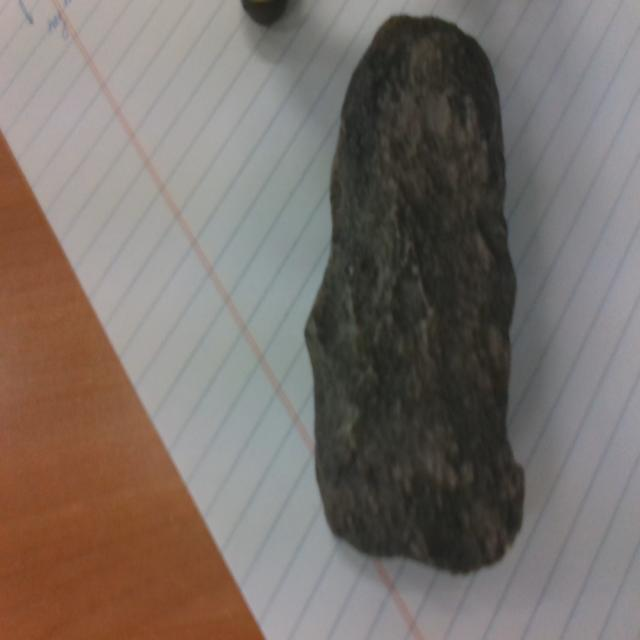stone: (305, 13, 525, 575)
